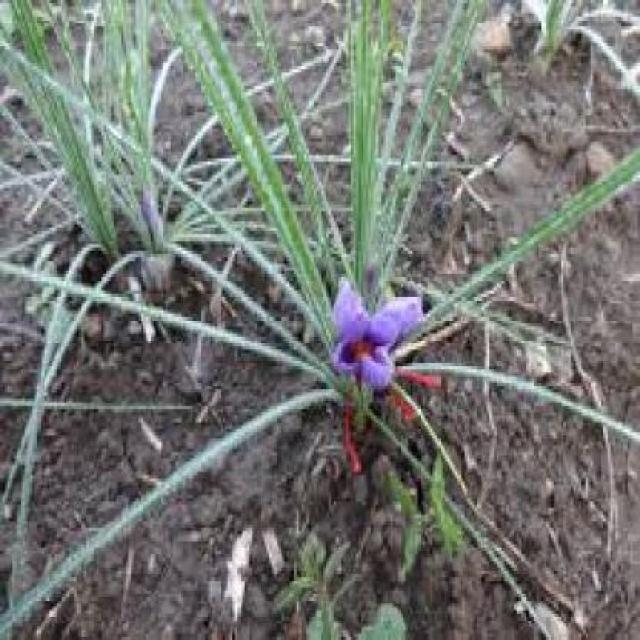Flower: (326, 268, 428, 386)
stigma: (341, 354, 368, 482), (396, 352, 445, 394), (386, 381, 419, 426)
